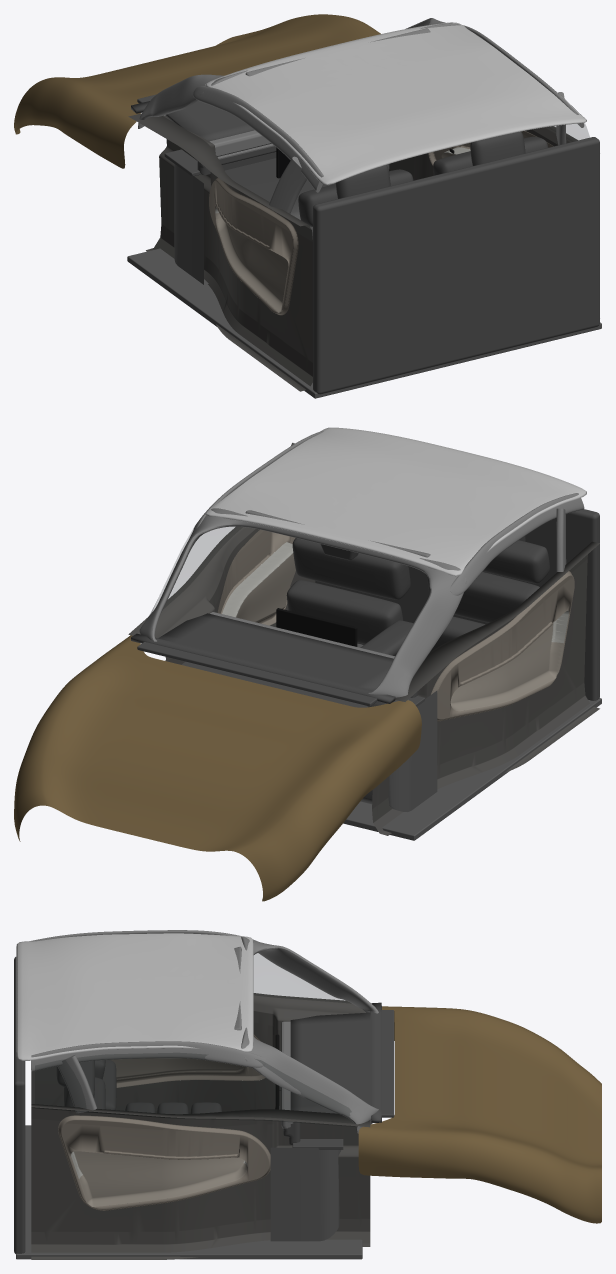
File: cabin.f42ac146.glb
3 views of the same model, one above another, from view 1: azimuth 30°, elevation 25°; view 2: azimuth 150°, elevation 25°; view 3: azimuth 270°, elevation 25° (orthographic). The views are drawn at different scales.
Visible parts, largest first — view 1: Cabin, SeatBackLeft, SeatBackRight; view 2: Cabin, SeatBackRight, SeatBackLeft, Glass; view 3: Cabin, Glass, SeatBackRight, SeatBackLeft.
Part boxes in pixels (x1,y1,x2,y2): Cabin: (14, 14, 601, 398); SeatBackLeft: (298, 165, 413, 239); SeatBackRight: (433, 131, 548, 175); Cabin: (14, 427, 601, 901); SeatBackRight: (286, 538, 410, 644); SeatBackLeft: (427, 536, 549, 651); Glass: (148, 524, 242, 617); Cabin: (14, 930, 601, 1259); Glass: (35, 953, 355, 1126); SeatBackRight: (56, 1060, 105, 1109); SeatBackLeft: (95, 1059, 116, 1110).
Size of the model in its own units: 1.75 by 1.2 by 3.07.
